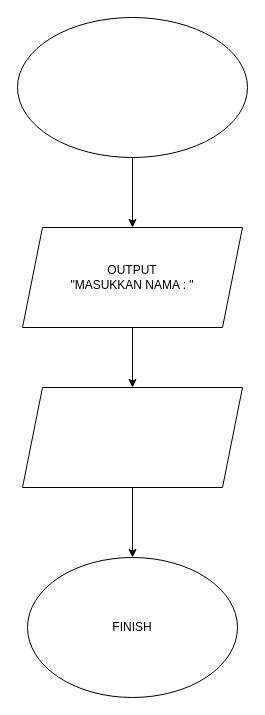
Image size: 265x715. Some labels were removed from this diagram. Here are the shapes that lost their labels. From the top down, the box of each, then its label:
(16, 16, 248, 158): START
(22, 386, 242, 488): INPUT NAMA
